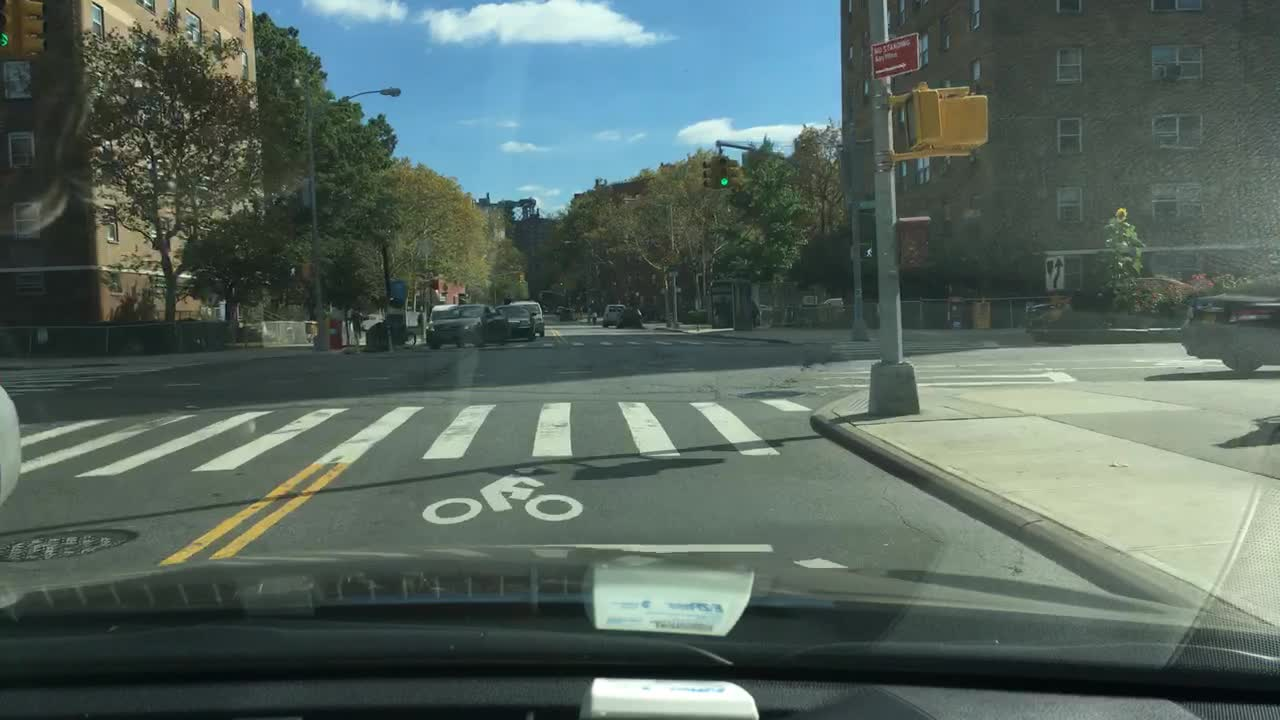bike: (403, 329, 416, 347)
car: (1175, 273, 1279, 373), (425, 303, 506, 347), (0, 380, 21, 507), (493, 305, 536, 341), (509, 300, 545, 337), (425, 303, 455, 333), (602, 303, 625, 328), (1027, 302, 1054, 321), (359, 313, 383, 331), (822, 297, 843, 309), (555, 307, 572, 321), (554, 305, 564, 313), (540, 305, 549, 312)
person: (590, 310, 598, 325)
traffic light: (888, 80, 941, 153), (942, 91, 990, 150), (18, 0, 47, 60), (0, 0, 18, 59), (702, 155, 716, 191), (716, 153, 729, 188), (289, 264, 310, 280), (857, 242, 872, 260), (729, 159, 738, 187)
traffic sign: (869, 31, 919, 79), (1043, 254, 1063, 289)
